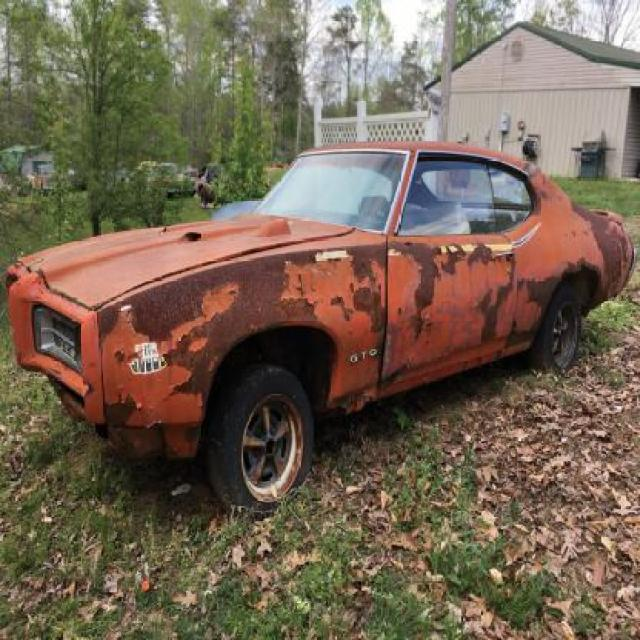corrosion: (7, 137, 638, 521)
